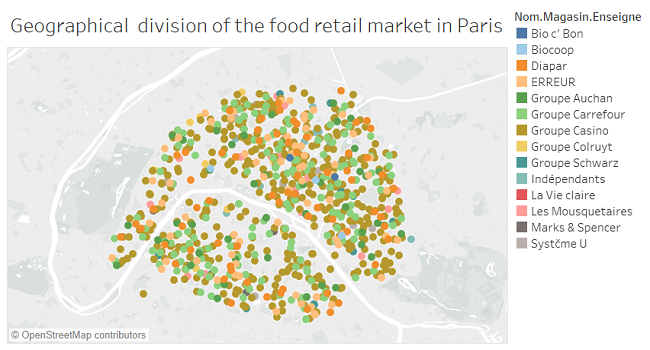

Layout of this report page (visuals, bound fields, positions):
{"tool":"tableau","page":{"name":"Tableau de bord 1","canvas":[650,860],"ordinal":0},"visuals":[{"type":"worksheet","title":"La grande distribution alimentaire sur Paris","mark":"Automatic","rows":["latitude"],"cols":["longitude"],"box":[8,8,474,844]},{"type":"legend","title":"La grande distribution alimentaire sur Paris","param":"[federated.0hzaiwd12jp9gq15eqk6711l3zq7].[none:NOM.MAGASIN.ENSEIGNE:nk]","box":[482,8,160,324]}]}

Visuals, with their boxes on the page's 650x860 design canvas (x1, y1, x2, y2). These are canvas units, not pixel positions in the 650x350 screenshot, which may show the page scaled, cropped or inside an application window:
"La grande distribution alimentaire sur Paris" worksheet: left=8, top=8, right=482, bottom=852
"La grande distribution alimentaire sur Paris" legend: left=482, top=8, right=642, bottom=332
